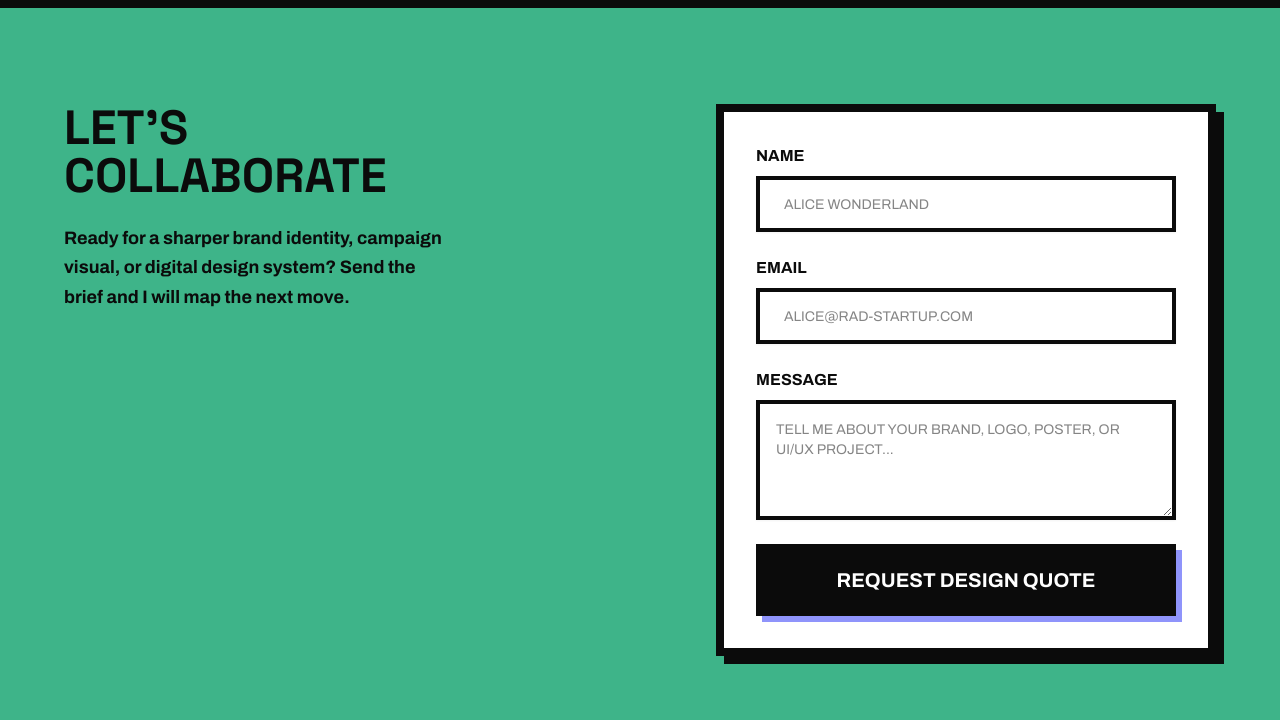
Test: ContactForm Integration & Regression › shows validation errors for empty fields
Click the button "Request Design Quote".
click(966, 580)  # box left=756, top=544, right=1176, bottom=616
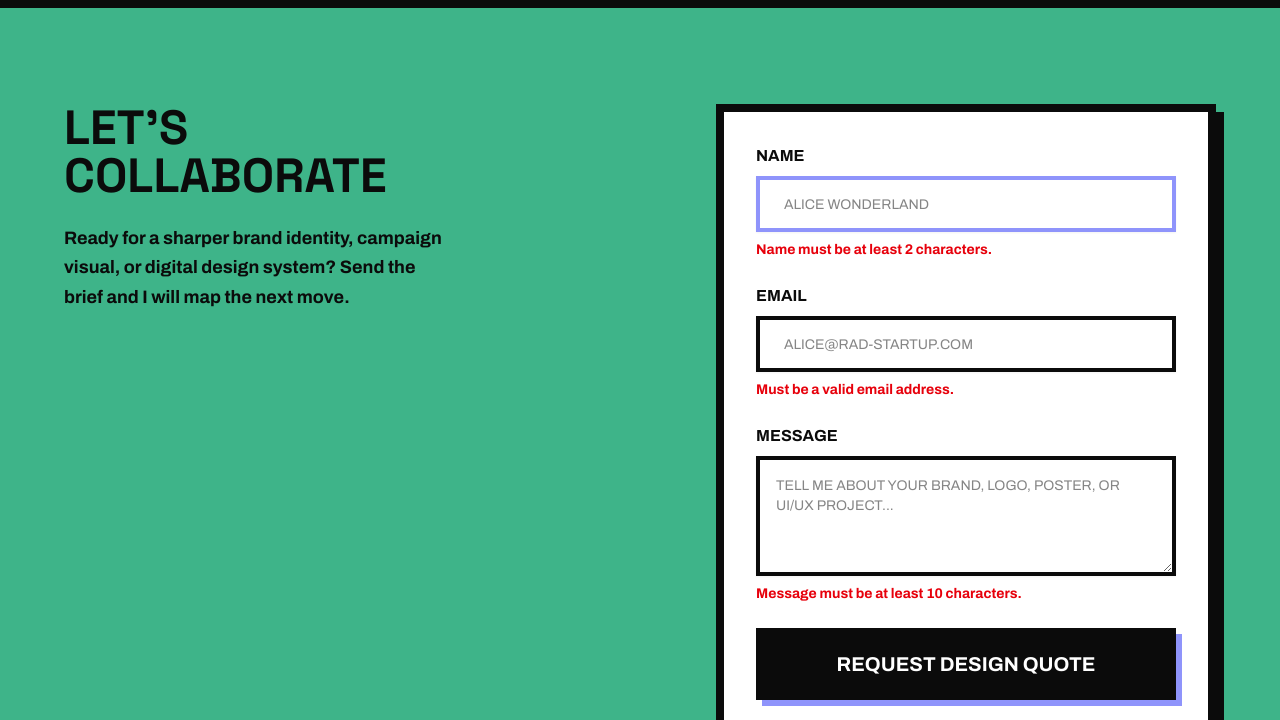
Check: the text "Name must be at least 2 characters." is shown, box left=756, top=242, right=992, bottom=257
Check: the text "Must be a valid email address." is shown, box left=756, top=382, right=954, bottom=397
Check: the text "Message must be at least 10 characters." is shown, box left=756, top=586, right=1022, bottom=601
